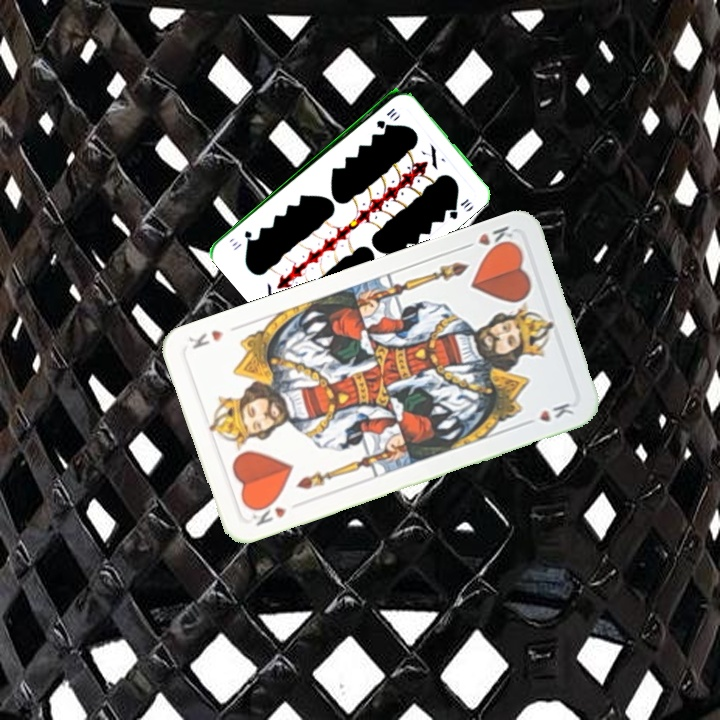G10: (372, 104, 398, 130)
HK: (458, 222, 517, 256), (247, 496, 289, 529)
